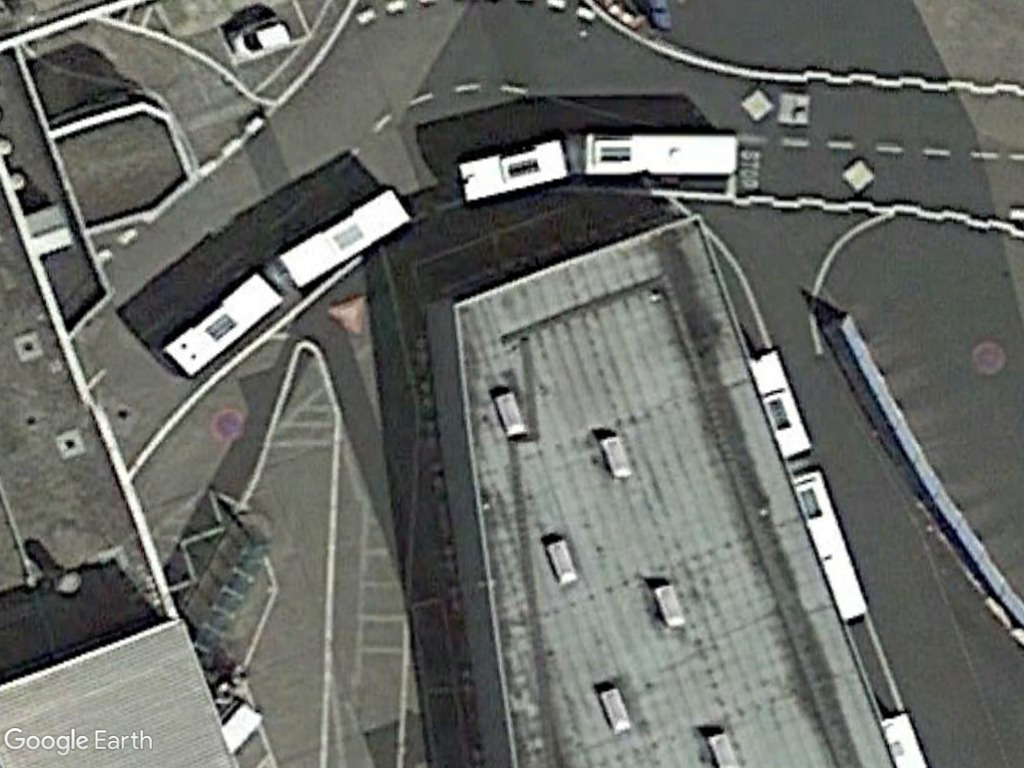bus: (274, 182, 415, 293), (160, 268, 287, 384), (784, 464, 869, 627), (565, 125, 741, 181), (451, 133, 574, 206), (743, 344, 814, 463)
car: (232, 13, 298, 59)
